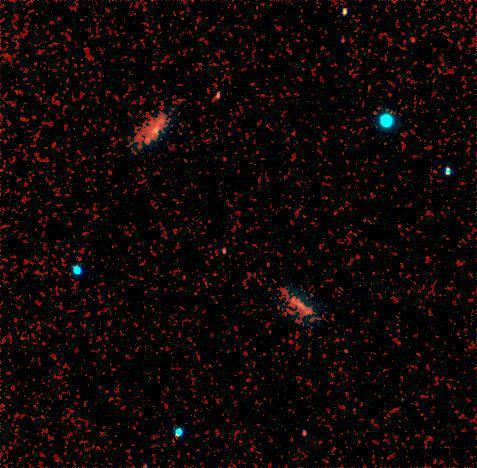star: (279, 285, 309, 315)
